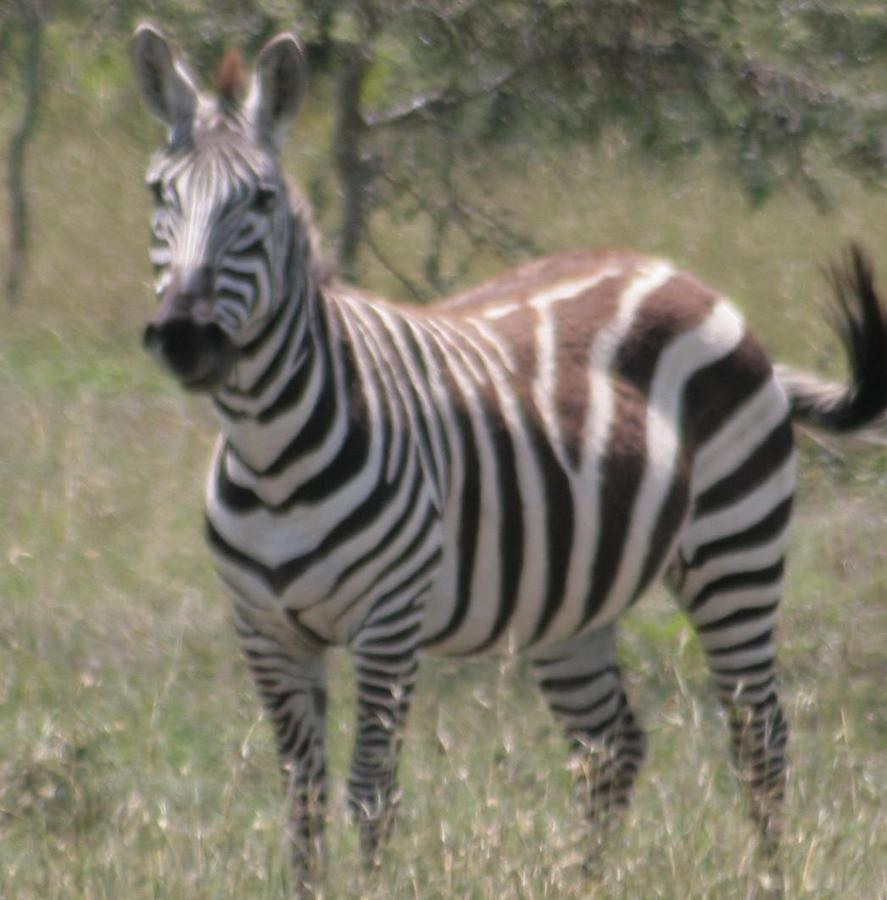zebra_plains: (288, 269, 828, 667)
